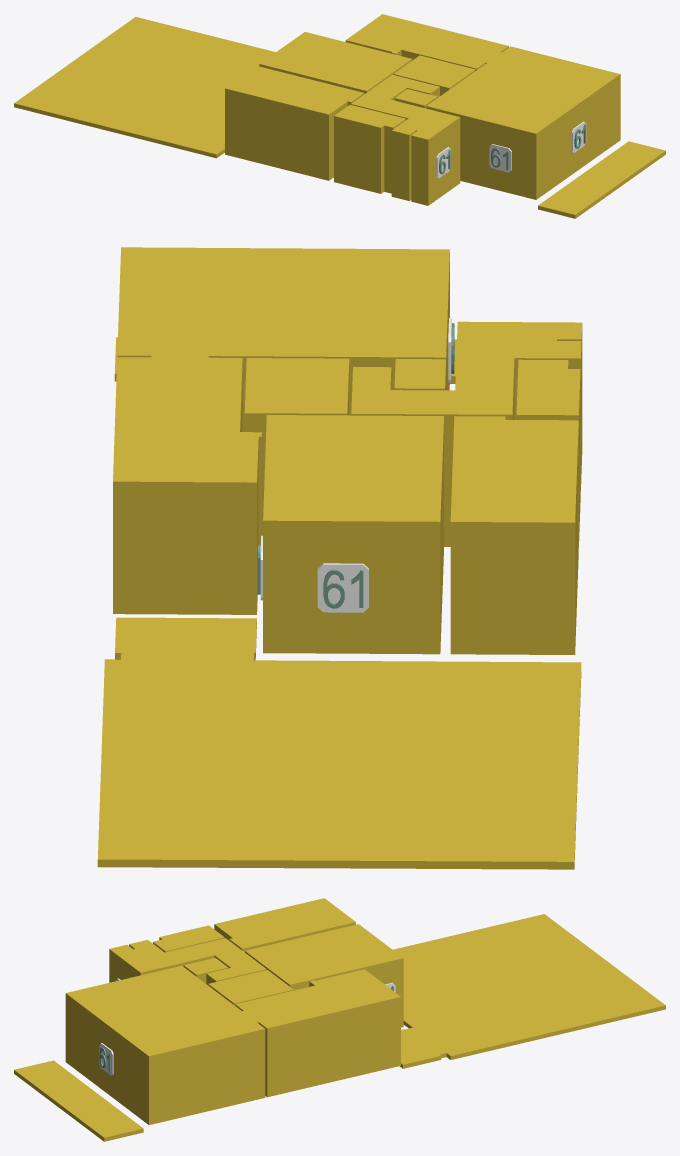
3 renders of one model, top to bottom at view 1: azimuth 30°, elevation 25°; view 2: azimuth 150°, elevation 25°; view 3: azimuth 270°, elevation 25°, orthographic. The views are drawn at different scales.
Visible parts, largest first — view 1: g_8, g_1, g_7, g_4, g_6, g_5, g_0, g_9, g_2, g_3, g_24; view 2: g_8, g_6, g_1, g_0, g_7, g_4, g_2, g_5, g_18, g_3; view 3: g_8, g_1, g_0, g_6, g_9, g_4, g_7, g_2, g_5, g_3.
Boxes of the visible parts, left/top/right/bottom form: g_8: left=14, top=17, right=275, bottom=158; g_1: left=426, top=46, right=620, bottom=199; g_7: left=225, top=66, right=364, bottom=180; g_4: left=351, top=74, right=460, bottom=205; g_6: left=259, top=32, right=412, bottom=94; g_5: left=334, top=104, right=405, bottom=193; g_0: left=345, top=14, right=508, bottom=70; g_9: left=538, top=141, right=665, bottom=218; g_2: left=393, top=55, right=475, bottom=95; g_3: left=394, top=89, right=437, bottom=108; g_24: left=489, top=144, right=511, bottom=172; g_8: left=97, top=617, right=581, bottom=869; g_6: left=263, top=415, right=443, bottom=654; g_1: left=117, top=247, right=449, bottom=431; g_0: left=113, top=356, right=262, bottom=614; g_7: left=450, top=416, right=578, bottom=654; g_4: left=351, top=321, right=582, bottom=546; g_2: left=244, top=358, right=349, bottom=535; g_5: left=516, top=359, right=580, bottom=547; g_18: left=317, top=563, right=368, bottom=612; g_3: left=394, top=359, right=445, bottom=390; g_8: left=393, top=914, right=665, bottom=1068; g_1: left=65, top=965, right=265, bottom=1124; g_0: left=235, top=969, right=400, bottom=1097; g_6: left=245, top=924, right=403, bottom=1027; g_9: left=14, top=1060, right=143, bottom=1141; g_4: left=109, top=938, right=266, bottom=985; g_7: left=214, top=898, right=355, bottom=952; g_2: left=208, top=970, right=293, bottom=1005; g_5: left=153, top=925, right=224, bottom=952; g_3: left=183, top=958, right=228, bottom=983.
Size of the model in its own units: 17.93 by 2.74 by 22.07.
